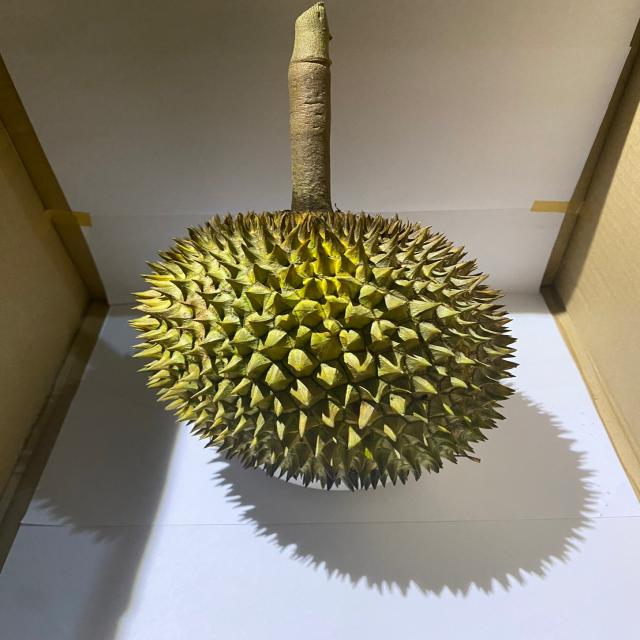immature: (128, 207, 520, 492)
